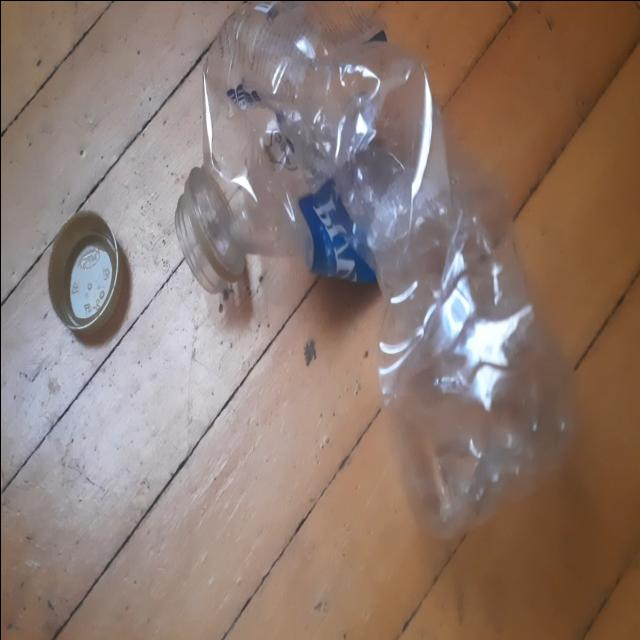Plastic: (175, 2, 574, 540)
